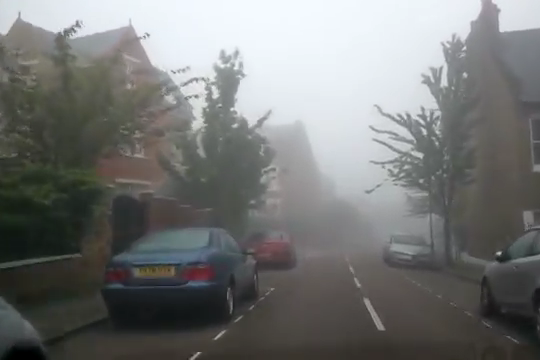car: (100, 225, 260, 325), (474, 226, 540, 318), (240, 227, 299, 270), (383, 229, 435, 270)
